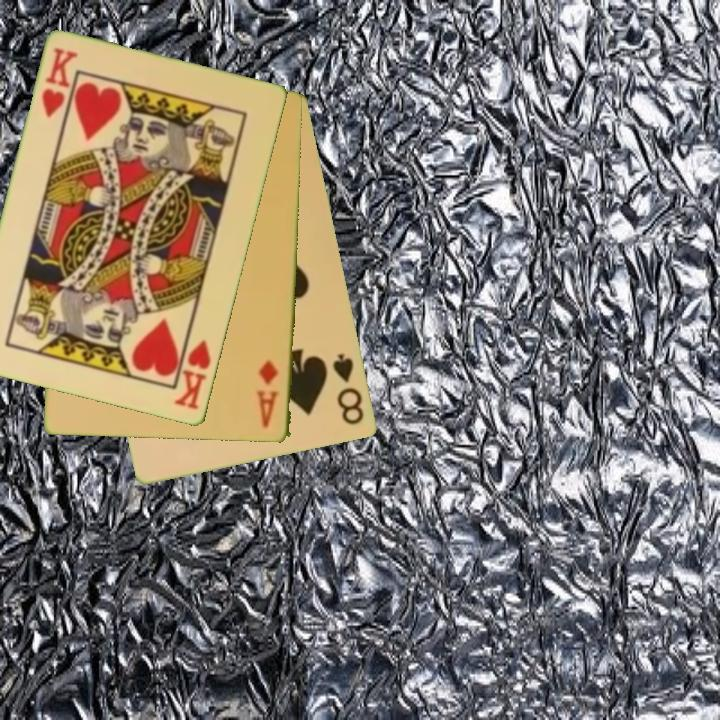8s: (329, 350, 367, 428)
Ad: (254, 357, 282, 432)
Kh: (171, 328, 214, 413), (38, 45, 82, 121)
